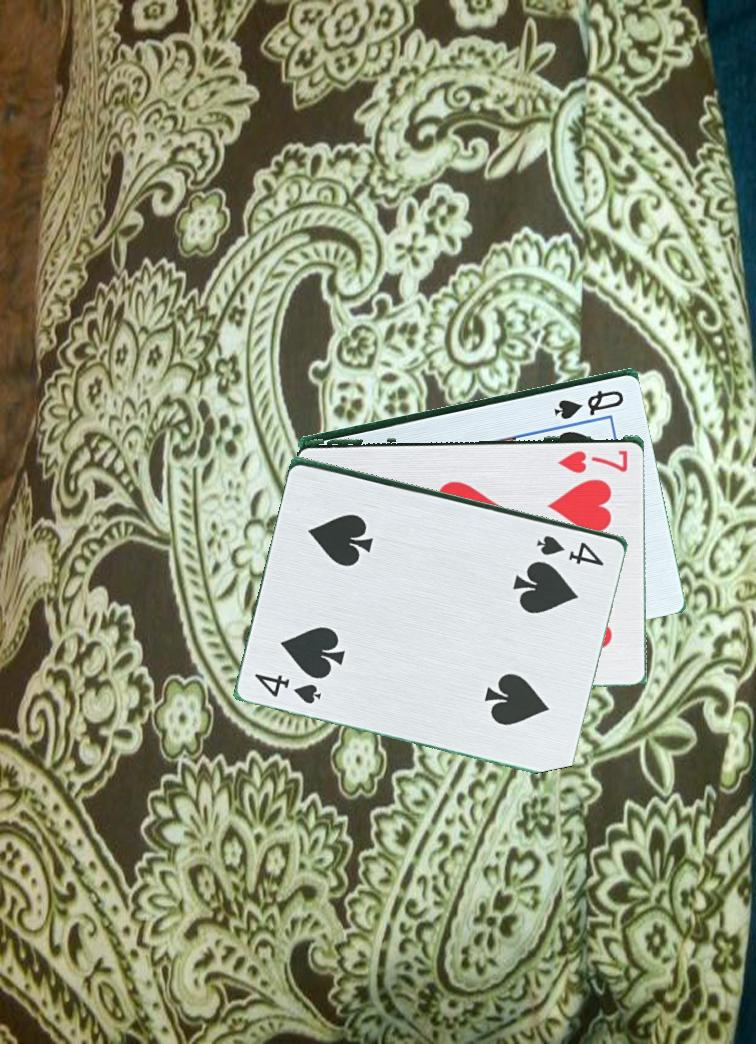4s: (251, 669, 332, 707), (533, 531, 607, 569)
7h: (555, 446, 637, 473)
qs: (551, 386, 627, 420)
